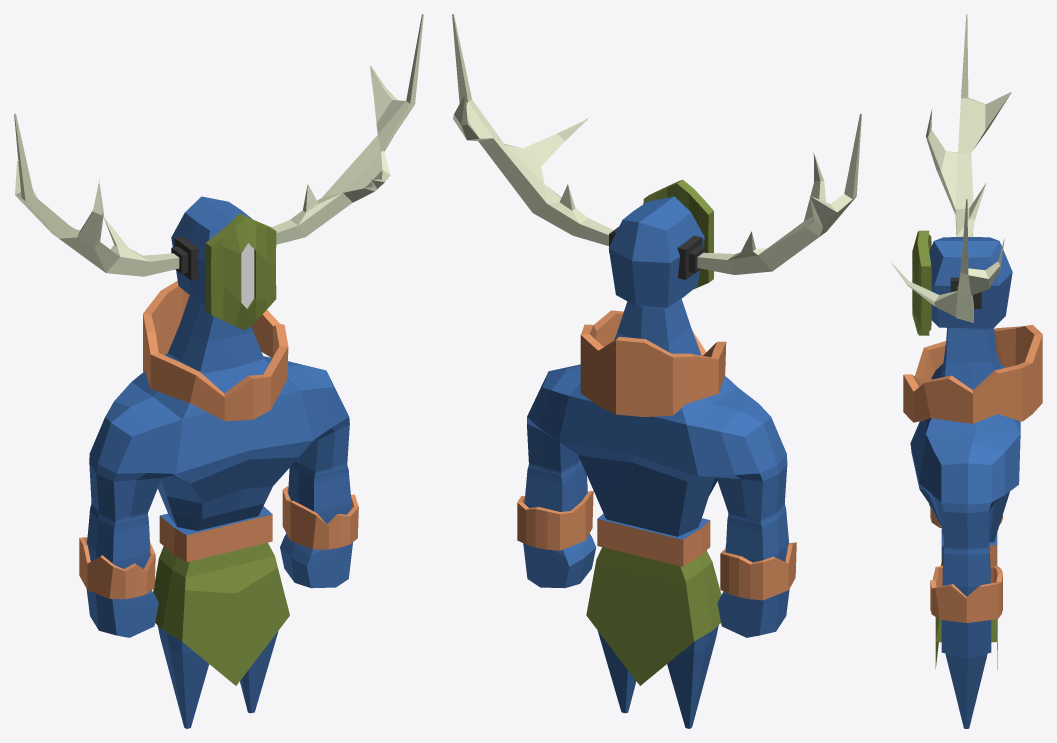
Rendered from nik.fbx.
3 views of the same model, side by side, from view 1: azimuth 30°, elevation 25°; view 2: azimuth 150°, elevation 25°; view 3: azimuth 270°, elevation 25° (orthographic). The views are drawn at different scales.
Visible parts, largest first — view 1: BODY, HORNS, Cylinder, MASK, BRACALET; view 2: BODY, HORNS, Cylinder, BRACALET, MASK; view 3: BODY, Cylinder, HORNS, BRACALET, MASK.
Boxes of the visible parts, x1=… form: BODY: x1=86, y1=196, x2=352, y2=728; HORNS: x1=14, y1=14, x2=423, y2=280; Cylinder: x1=143, y1=280, x2=288, y2=421; MASK: x1=205, y1=213, x2=276, y2=330; BRACALET: x1=79, y1=486, x2=358, y2=599; BODY: x1=523, y1=196, x2=789, y2=728; HORNS: x1=452, y1=14, x2=861, y2=279; Cylinder: x1=580, y1=310, x2=726, y2=416; BRACALET: x1=517, y1=491, x2=796, y2=600; MASK: x1=643, y1=179, x2=713, y2=288; BODY: x1=910, y1=237, x2=1020, y2=728; Cylinder: x1=903, y1=324, x2=1042, y2=423; HORNS: x1=890, y1=14, x2=1011, y2=322; BRACALET: x1=930, y1=507, x2=1002, y2=622; MASK: x1=912, y1=230, x2=931, y2=335.
Bounding box in the file's own units: 21.3 × 32.62 × 7.43.
